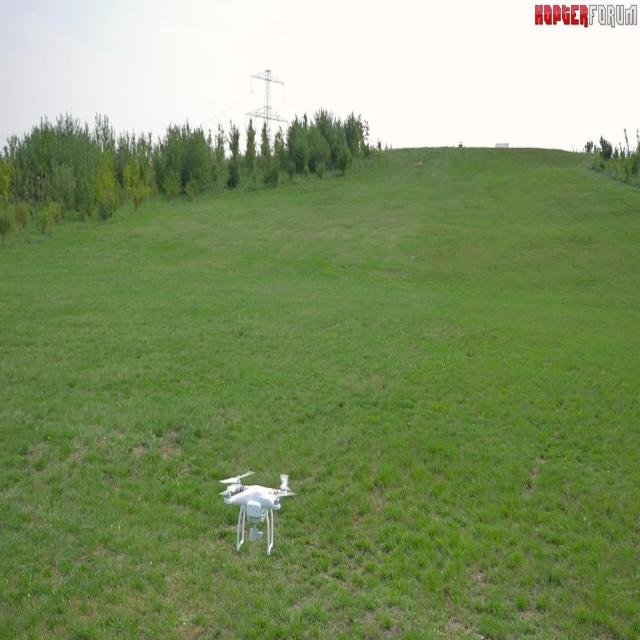drone: (218, 467, 297, 556)
